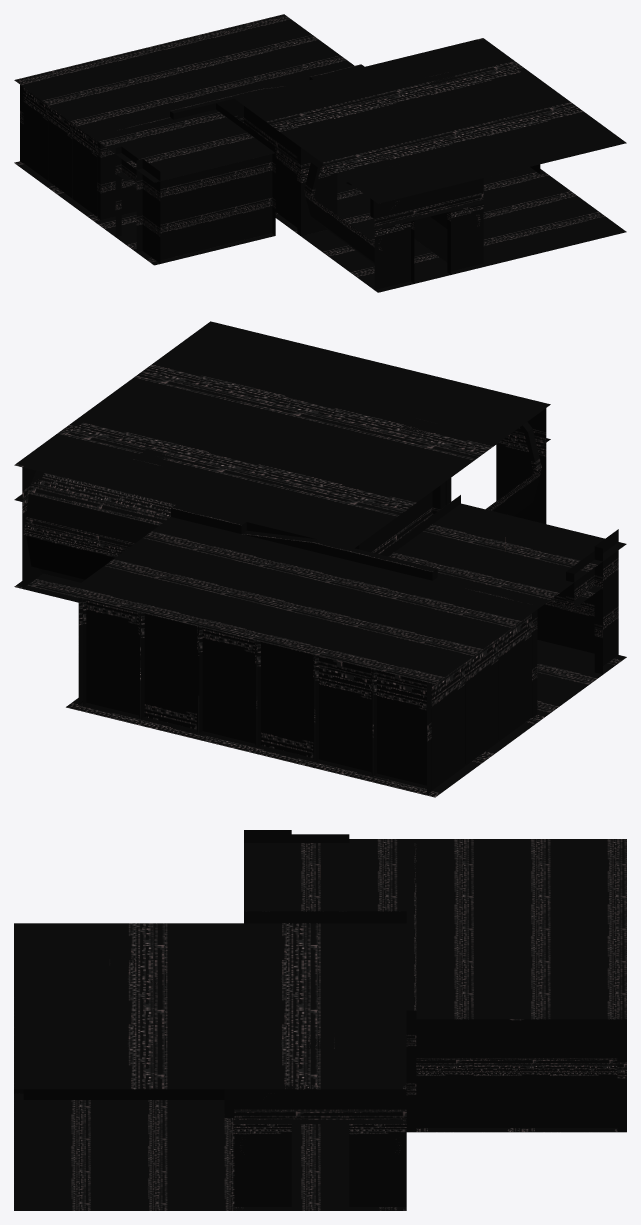
Rendered from room513_opt.obj.
3 views of the same model, one above another, from view 1: azimuth 30°, elevation 25°; view 2: azimuth 150°, elevation 25°; view 3: azimuth 270°, elevation 25° (orthographic). The views are drawn at different scales.
Size of the model in its own units: 2048 by 472 by 2048.
